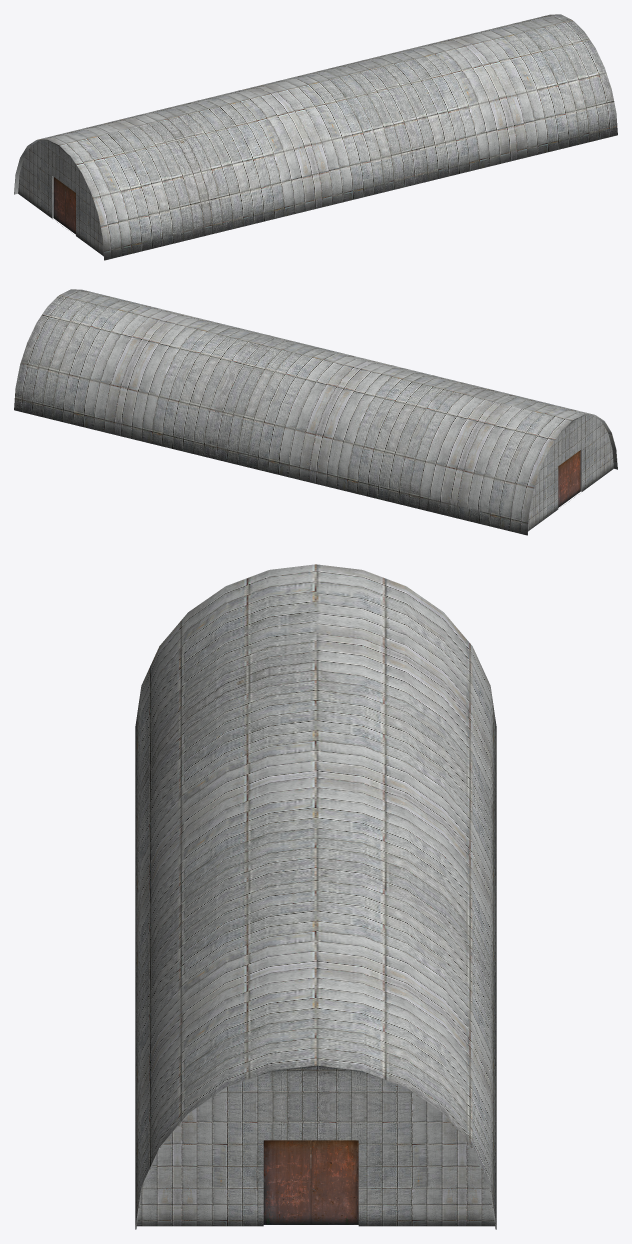
File: r402_borovoe_angar1.FBX
The picture shows the model from 3 angles, top to bottom: view 1: azimuth 30°, elevation 25°; view 2: azimuth 150°, elevation 25°; view 3: azimuth 270°, elevation 25°; orthographic projection. The views are drawn at different scales.
Parts seen in each view (by area): view 1: r402_borovoe_angar1; view 2: r402_borovoe_angar1; view 3: r402_borovoe_angar1.
Part boxes in pixels (bbox=[...]): r402_borovoe_angar1: bbox=[14, 14, 617, 260]; r402_borovoe_angar1: bbox=[14, 289, 617, 535]; r402_borovoe_angar1: bbox=[135, 564, 496, 1229].
Size of the model in its own units: 5000 by 1524 by 763.
